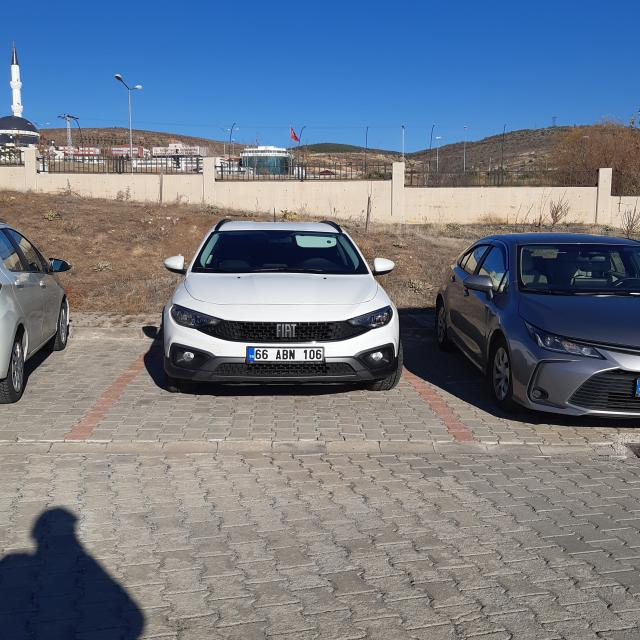license_plate: (247, 347, 324, 362)
